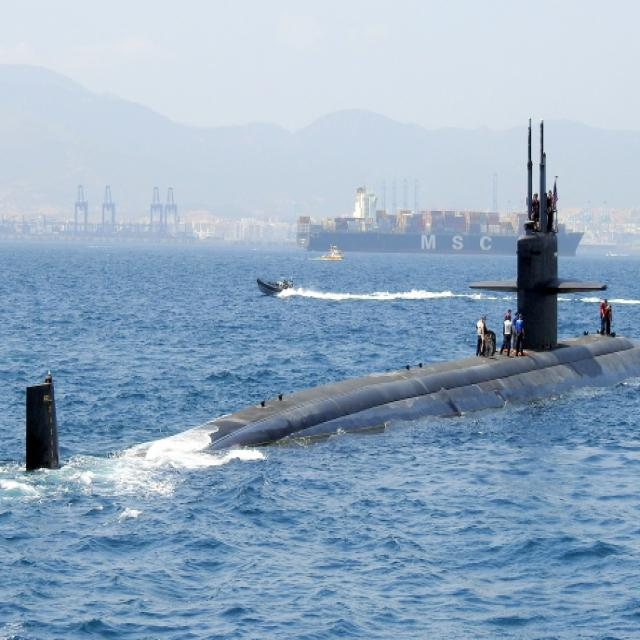submarine: (26, 123, 640, 471)
